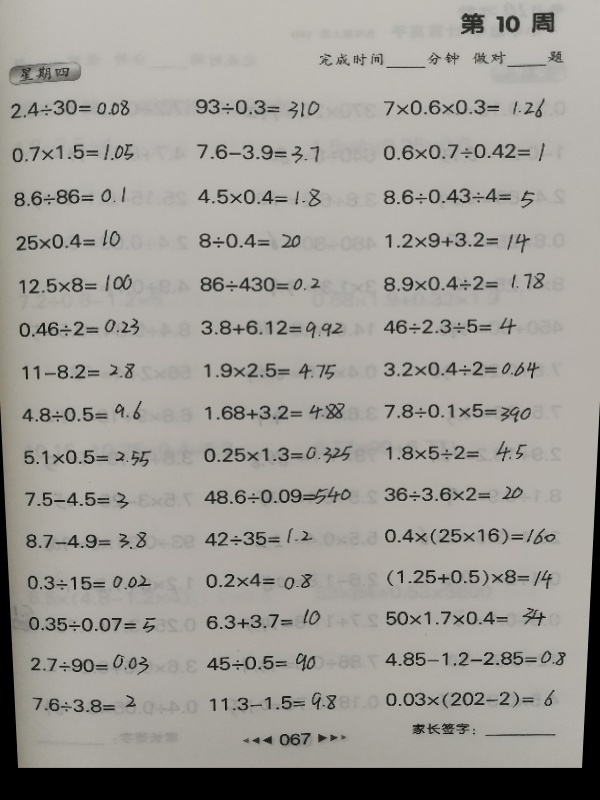equation: (379, 93, 550, 122), (382, 564, 556, 591), (379, 522, 564, 547), (380, 139, 549, 166), (380, 268, 548, 295), (382, 607, 553, 633), (379, 183, 537, 211), (11, 609, 159, 637), (381, 228, 533, 255), (378, 649, 571, 670), (380, 356, 542, 381), (200, 483, 355, 509), (380, 398, 535, 424), (381, 688, 559, 710), (199, 442, 355, 466), (197, 315, 346, 340), (190, 94, 324, 121), (380, 314, 521, 339), (192, 139, 322, 166), (7, 139, 137, 166), (201, 400, 347, 424), (200, 358, 340, 383), (6, 94, 133, 121), (194, 184, 325, 210), (18, 398, 145, 424), (19, 445, 155, 469), (27, 649, 152, 675), (14, 314, 143, 339), (203, 646, 319, 673), (205, 689, 339, 712), (201, 607, 324, 632), (380, 483, 525, 504), (19, 359, 139, 384), (15, 272, 134, 297), (22, 528, 150, 551), (197, 273, 324, 296), (382, 442, 528, 462), (9, 184, 128, 208), (24, 572, 155, 593), (28, 692, 139, 716), (21, 487, 132, 511), (202, 570, 316, 593), (201, 525, 315, 548), (11, 228, 123, 251), (196, 230, 306, 253)
